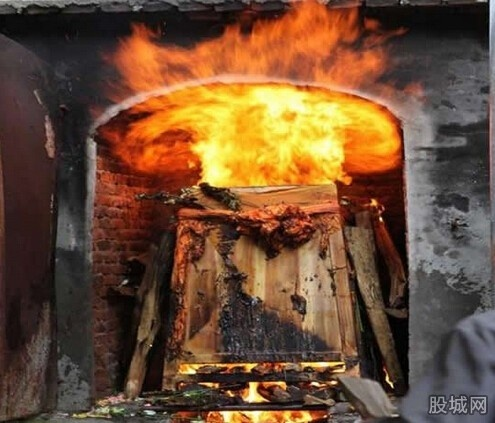fire: (119, 0, 402, 186), (178, 356, 335, 418)
